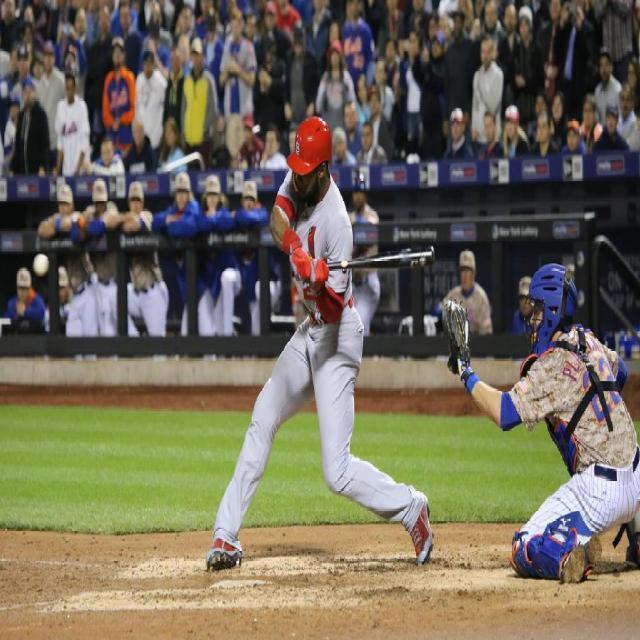ball: (33, 253, 51, 274)
bat: (327, 246, 437, 272)
